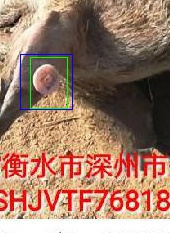text: (30, 57, 67, 108)
